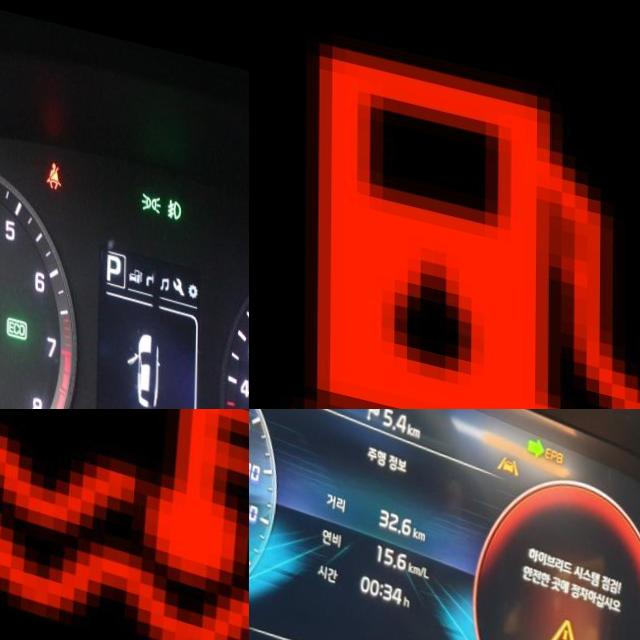Engine cooling system: (0, 409, 249, 640)
FrontFogLight: (166, 171, 181, 198)
LaneCenteringOff: (496, 429, 519, 451)
Low fuel level: (278, 14, 640, 409)
SideLamp: (139, 168, 161, 193)
